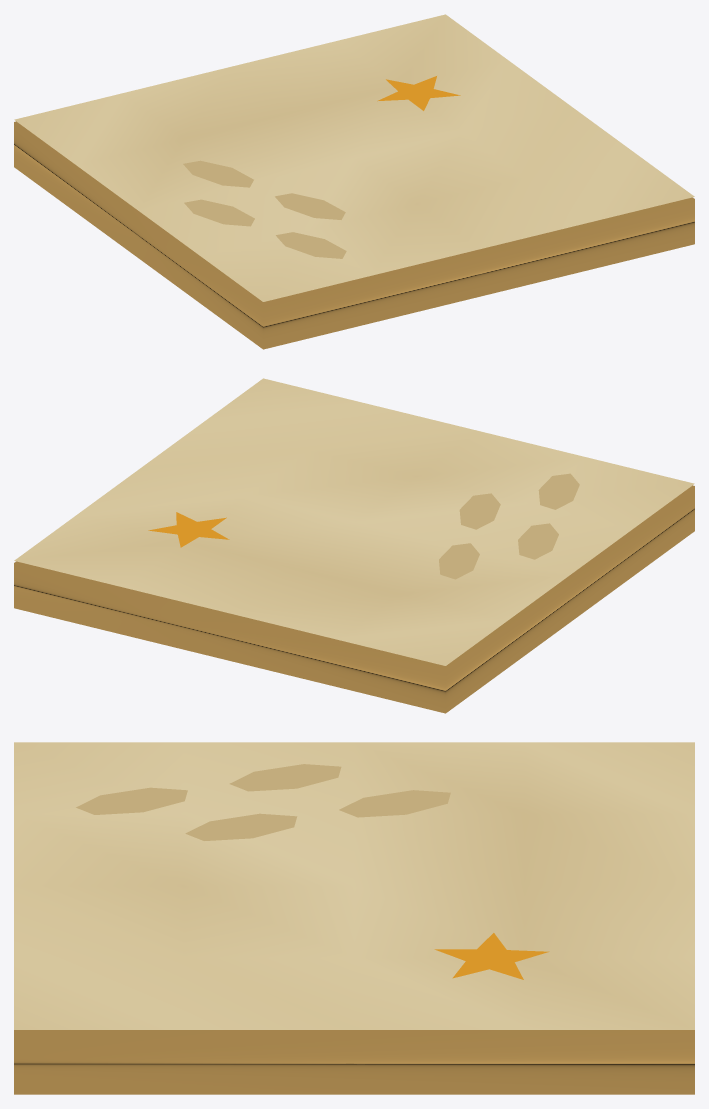
The model's file is tile_beach_b.glb.
The picture shows the model from 3 angles, top to bottom: view 1: azimuth 30°, elevation 25°; view 2: azimuth 150°, elevation 25°; view 3: azimuth 270°, elevation 25°; orthographic projection. The views are drawn at different scales.
Visible parts, largest first — view 1: Tile.001; view 2: Tile.001; view 3: Tile.001.
Boxes of the visible parts, box(x1,y1,x2,y2) form: Tile.001: box(14, 14, 694, 349); Tile.001: box(14, 378, 694, 713); Tile.001: box(14, 742, 694, 1094).
Size of the model in its own units: 1 by 0.109 by 1.
